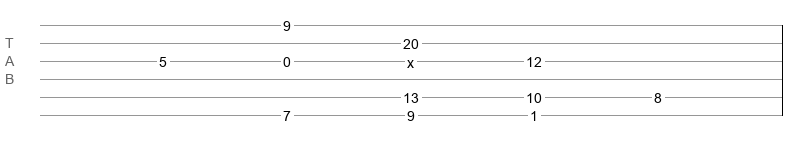0: (283, 54, 291, 64)
1: (530, 108, 538, 118)
10: (526, 90, 542, 100)
12: (526, 54, 542, 64)
13: (403, 90, 419, 100)
20: (403, 36, 419, 46)
5: (159, 54, 167, 64)
7: (283, 108, 291, 118)
8: (654, 90, 662, 100)
9: (283, 18, 291, 28), (407, 108, 415, 118)
x: (407, 55, 414, 63)
